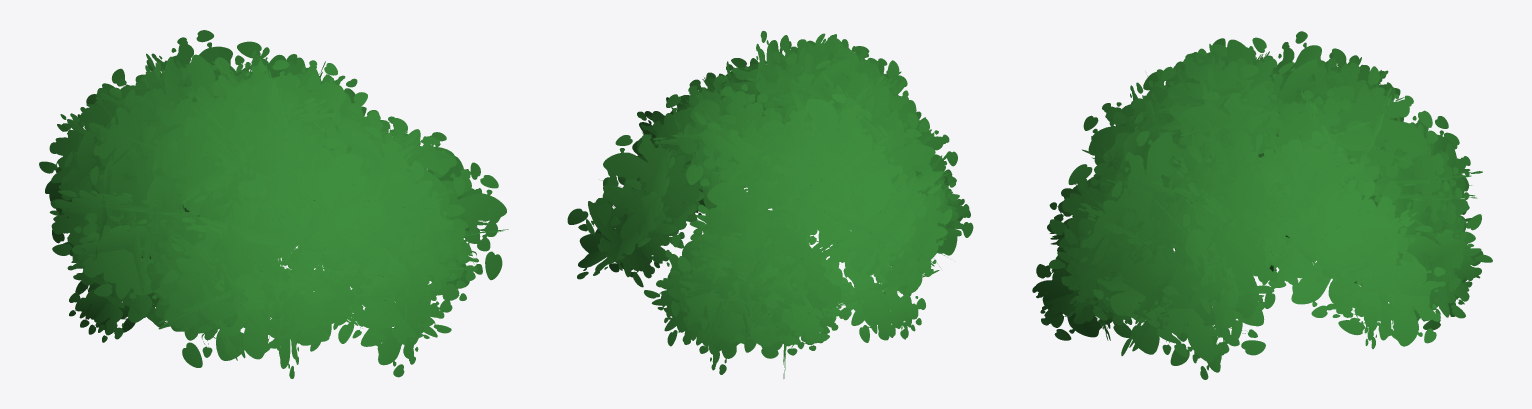
File: SM_ENV_bush_town_01.fbx
3 views of the same model, side by side, from view 1: azimuth 30°, elevation 25°; view 2: azimuth 150°, elevation 25°; view 3: azimuth 270°, elevation 25° (orthographic). The views are drawn at different scales.
Parts seen in each view (by area): view 1: SM_ENV_bush_town_01_LOD0; view 2: SM_ENV_bush_town_01_LOD0; view 3: SM_ENV_bush_town_01_LOD0.
Part boxes in pixels (x1,y1,x2,y2): SM_ENV_bush_town_01_LOD0: (39, 30, 508, 378); SM_ENV_bush_town_01_LOD0: (567, 31, 973, 378); SM_ENV_bush_town_01_LOD0: (1032, 31, 1492, 379).
Bounding box in the file's own units: 165 × 120 × 174.
